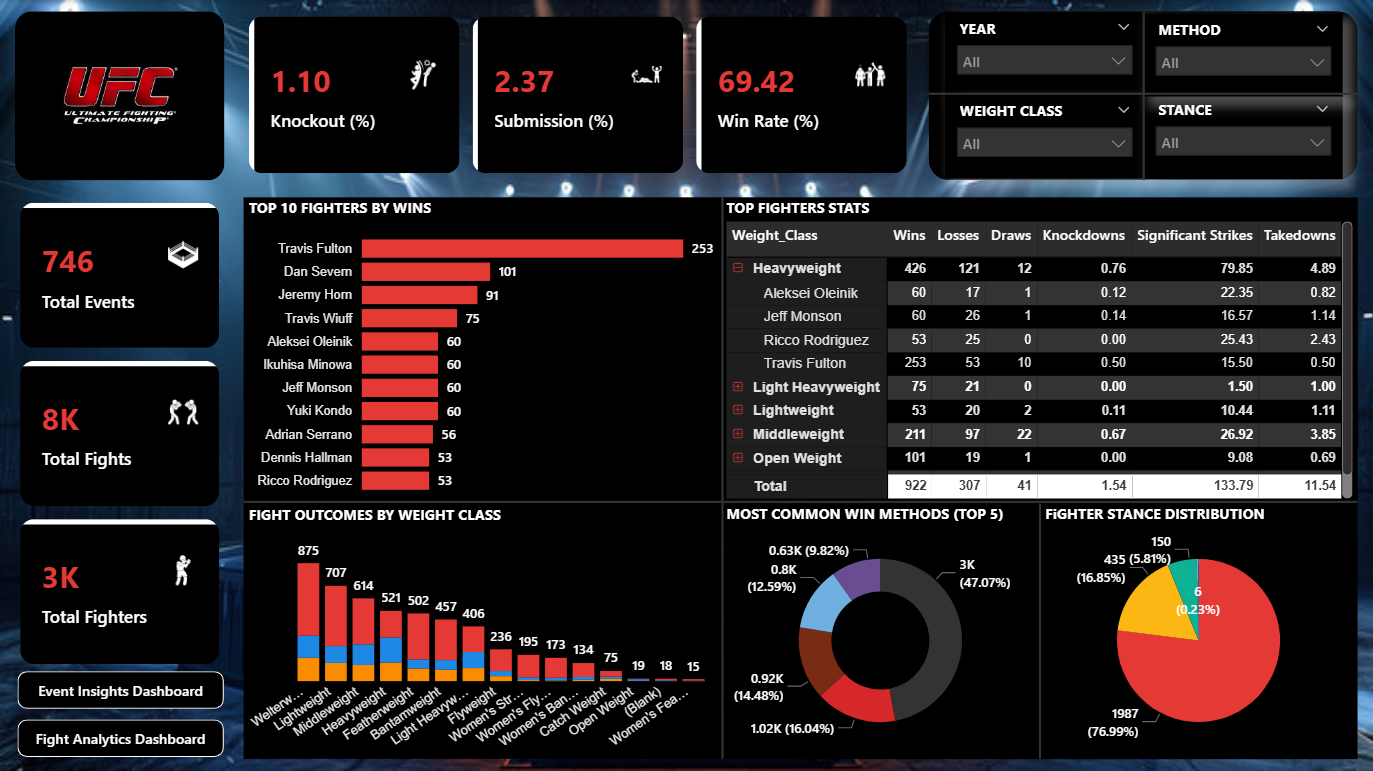

What the dashboard file says about the page in this screenshot:
{"tool":"powerbi","page":{"name":"Fighter Performance Overview Dashboard","canvas":[1280,720],"ordinal":0},"visuals":[{"type":"shape","box":[13.8,10,195,157.5],"z":0},{"type":"shape","box":[864,10.5,398.8,157],"z":0,"group":"g2"},{"type":"image","box":[13.8,10,195,157.5],"z":1000},{"type":"shape","box":[226.7,183.7,1036,522.1],"z":1000,"group":"g1"},{"type":"cardVisual","fields":{"Data":["Fighters Stats.KO Percentage","Fighters Stats.Submission Percentage","Fighters Stats.Win Rate (%)"]},"box":[226.7,10.5,623.3,157],"z":2000},{"type":"cardVisual","fields":{"Data":["Events.Total Events","Fights.Total Fights","Fighters Stats.Total Fighters"]},"box":[13.8,183.8,195,441.2],"z":3000},{"type":"group","id":"g1","title":"Group 1","box":[226.7,183.7,1036.3,522.4],"z":5000},{"type":"group","id":"g2","title":"Group 2","box":[864,10.5,398.8,157],"z":6000},{"type":"clusteredBarChart","title":"TOP 10 FIGHTERS BY WINS","fields":{"Category":["Fighters Stats.Full Name"],"Y":["Sum(Fighters Stats.W)"]},"box":[226.7,183.7,444.2,286],"z":7000,"group":"g1"},{"type":"pageNavigator","box":[16,624,192,80],"z":7000},{"type":"donutChart","title":"MOST COMMON WIN METHODS (TOP 5)","fields":{"Category":["Fights.Method"],"Y":["CountNonNull(Fights.Method)"]},"box":[670.9,468.6,296.5,237.2],"z":8000,"group":"g1"},{"type":"columnChart","title":"FIGHT OUTCOMES BY WEIGHT CLASS","fields":{"Category":["Fighters Stats.Weight_Class"],"Y":["Fights.Total Fights"],"Series":["Fights.Method"]},"box":[226.7,469.7,444.2,236],"z":9000,"group":"g1"},{"type":"pivotTable","title":"TOP FIGHTERS STATS","fields":{"Values":["Sum(Fighters Stats.W)","Sum(Fighters Stats.L)","Sum(Fighters Stats.D)","Sum(Fighters Stats.KD)","Sum(Fighters Stats.STR)","Sum(Fighters Stats.TD)"],"Rows":["Fighters Stats.Weight_Class","Fighters Stats.Full Name"]},"box":[670.9,183.7,591.9,284.9],"z":10000,"group":"g1"},{"type":"pieChart","title":"FiGHTER STANCE DISTRIBUTION","fields":{"Category":["Fighters Stats.Stance"],"Y":["CountNonNull(Fighters Stats.Fighter_Id)"]},"box":[967.7,468.9,295.3,237.2],"z":11000,"group":"g1"},{"type":"shape","box":[659.3,183.7,25.6,522.1],"z":12000,"group":"g1"},{"type":"shape","box":[226.7,454.6,1036,24.4],"z":13000,"group":"g1"},{"type":"shape","box":[954.6,468.6,25.6,237.2],"z":14000,"group":"g1"},{"type":"slicer","fields":{"Values":["Calendar.Year"]},"box":[879.1,11.7,184.9,77.9],"z":15000,"group":"g2"},{"type":"slicer","fields":{"Values":["Fighters Stats.Weight_Class"]},"box":[879.1,88.4,184.9,77.9],"z":16000,"group":"g2"},{"type":"slicer","fields":{"Values":["Fighters Stats.Stance"]},"box":[1064,87.2,184.9,79.1],"z":17000,"group":"g2"},{"type":"slicer","fields":{"Values":["Fights.Method"]},"box":[1064,12.8,184.9,76.7],"z":18000,"group":"g2"},{"type":"shape","box":[1051.2,11.7,25.6,155.8],"z":19000,"group":"g2"},{"type":"shape","box":[864,74.5,398.8,25.6],"z":20000,"group":"g2"}]}

Visuals, with their boxes in screenshot pixels (x1, y1, x2, y2), scaled from the page's 1280x720 canvas onto the 1373x771 screenshot:
shape: select_region(15, 11, 224, 179)
shape: select_region(927, 11, 1355, 179)
image: select_region(15, 11, 224, 179)
shape: select_region(243, 197, 1354, 756)
cardVisual - Fighters Stats.KO Percentage x Fighters Stats.Submission Percentage: select_region(243, 11, 912, 179)
cardVisual - Events.Total Events x Fights.Total Fights: select_region(15, 197, 224, 669)
"Group 1" group: select_region(243, 197, 1355, 756)
"Group 2" group: select_region(927, 11, 1355, 179)
"TOP 10 FIGHTERS BY WINS" clusteredBarChart: select_region(243, 197, 720, 503)
pageNavigator: select_region(17, 668, 223, 754)
"MOST COMMON WIN METHODS (TOP 5)" donutChart: select_region(720, 502, 1038, 756)
"FIGHT OUTCOMES BY WEIGHT CLASS" columnChart: select_region(243, 503, 720, 756)
"TOP FIGHTERS STATS" pivotTable: select_region(720, 197, 1355, 502)
"FiGHTER STANCE DISTRIBUTION" pieChart: select_region(1038, 502, 1355, 756)
shape: select_region(707, 197, 735, 756)
shape: select_region(243, 487, 1354, 513)
shape: select_region(1024, 502, 1051, 756)
slicer - Calendar.Year: select_region(943, 13, 1141, 96)
slicer - Fighters Stats.Weight_Class: select_region(943, 95, 1141, 178)
slicer - Fighters Stats.Stance: select_region(1141, 93, 1340, 178)
slicer - Fights.Method: select_region(1141, 14, 1340, 96)
shape: select_region(1128, 13, 1155, 179)
shape: select_region(927, 80, 1355, 107)
